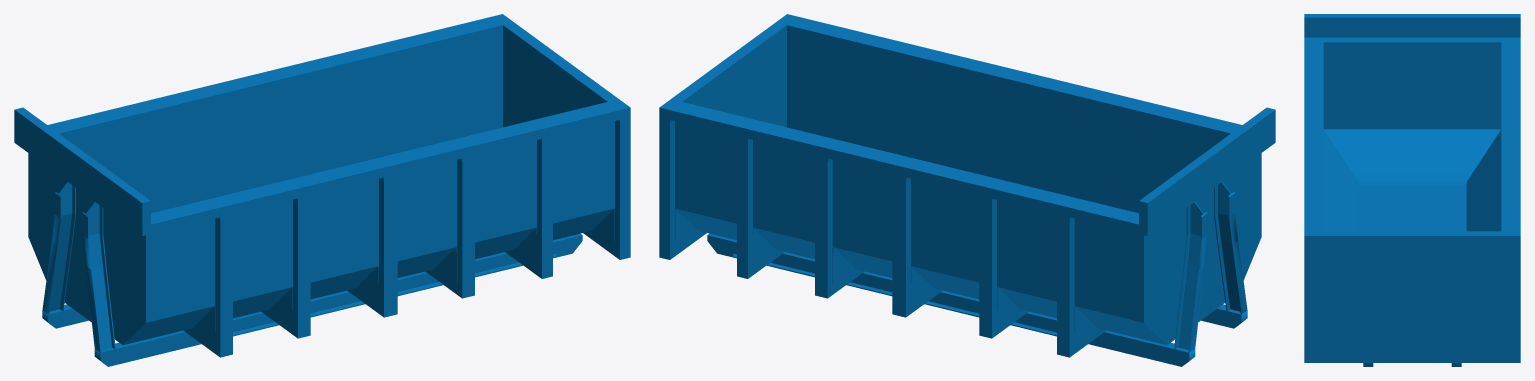
3 renders of one model, left to right at view 1: azimuth 30°, elevation 25°; view 2: azimuth 150°, elevation 25°; view 3: azimuth 270°, elevation 25°, orthographic. The views are drawn at different scales.
Visible parts, largest first — view 1: Cube, SINA_002; view 2: Cube, SINA_002; view 3: Cube.
Part boxes in pixels (x1,y1,x2,y2): Cube: [14, 14, 630, 357]; SINA_002: [42, 182, 582, 366]; Cube: [659, 14, 1275, 357]; SINA_002: [707, 182, 1247, 366]; Cube: [1304, 14, 1520, 362].
Bounding box in the file's own units: 619 × 227 × 277.
